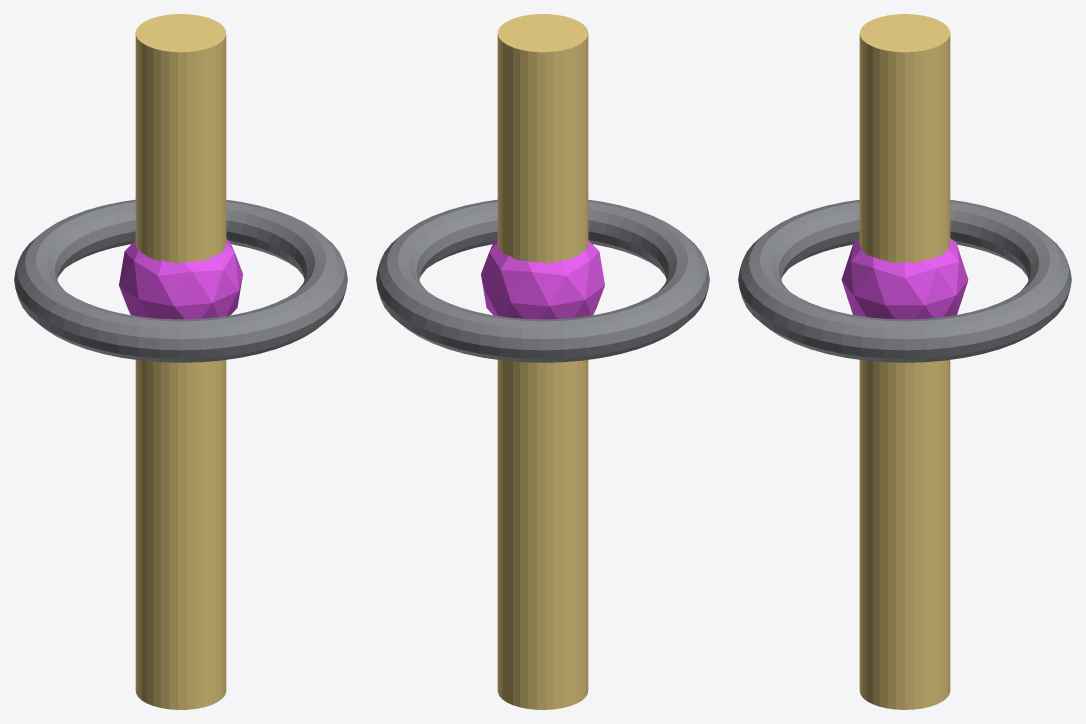
The model's file is SM_Reality_Anchor.fbx.
The picture shows the model from 3 angles, left to right: view 1: azimuth 30°, elevation 25°; view 2: azimuth 150°, elevation 25°; view 3: azimuth 270°, elevation 25°; orthographic projection.
Parts seen in each view (by area): view 1: SM_Reality_Anchor; view 2: SM_Reality_Anchor; view 3: SM_Reality_Anchor.
Part boxes in pixels (left/top/right/bottom): SM_Reality_Anchor: left=14, top=14, right=347, bottom=709; SM_Reality_Anchor: left=376, top=14, right=709, bottom=709; SM_Reality_Anchor: left=738, top=14, right=1071, bottom=709.
Size of the model in its own units: 0.184 by 0.4 by 0.184.
